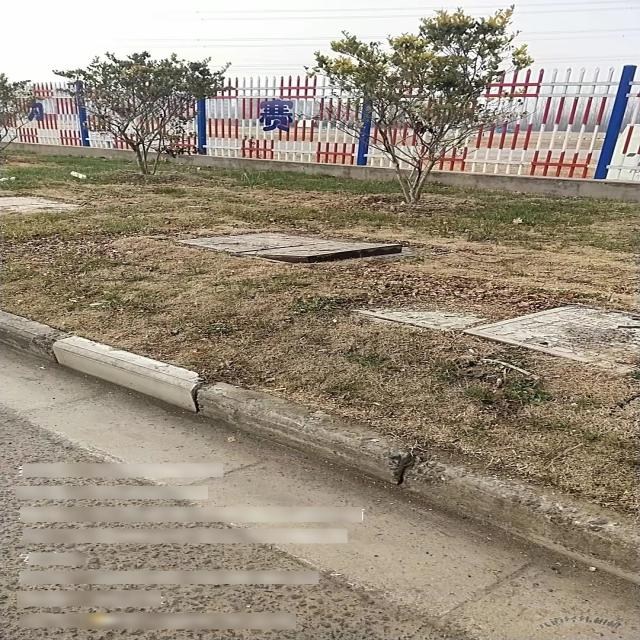Good: (347, 294, 639, 376)
Lose: (166, 235, 420, 264)
